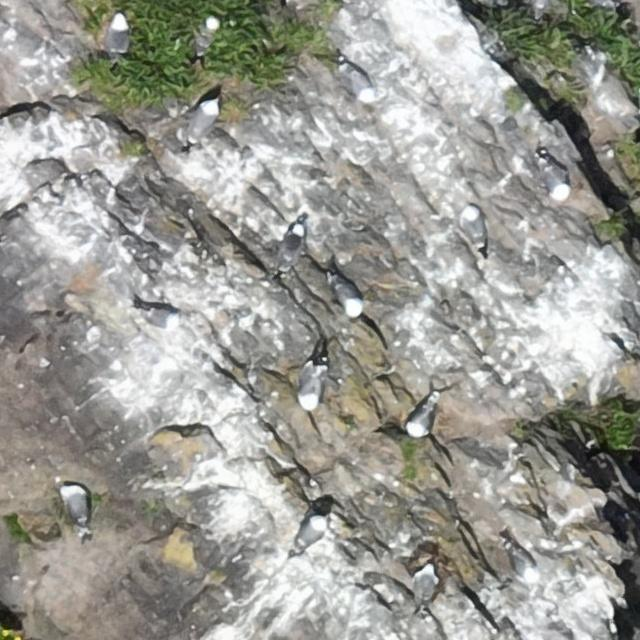umineko: (534, 157, 572, 199), (342, 63, 377, 102), (190, 102, 216, 138), (195, 17, 220, 54), (300, 368, 322, 408), (407, 402, 434, 434), (335, 282, 361, 314), (64, 488, 86, 523), (298, 516, 324, 544), (464, 210, 484, 246), (141, 306, 178, 325), (110, 14, 128, 50), (416, 567, 434, 599), (512, 549, 532, 577), (533, 0, 549, 14)
